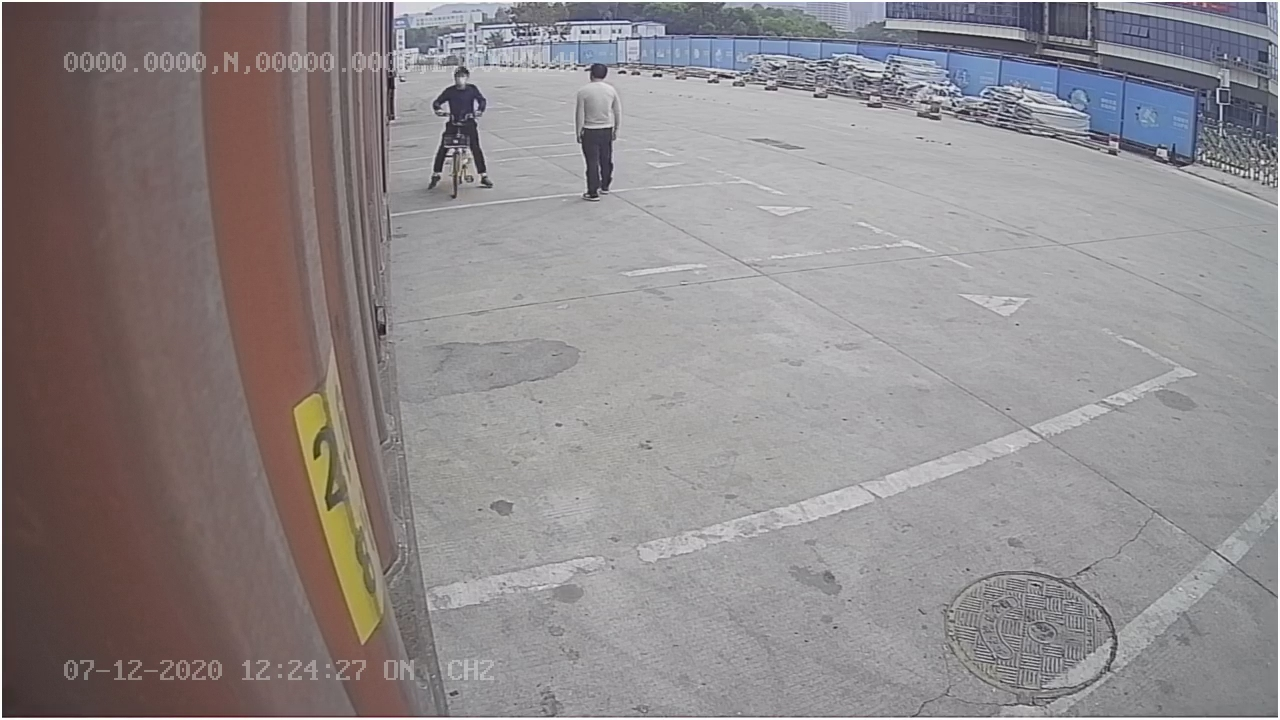person: (570, 60, 625, 204)
